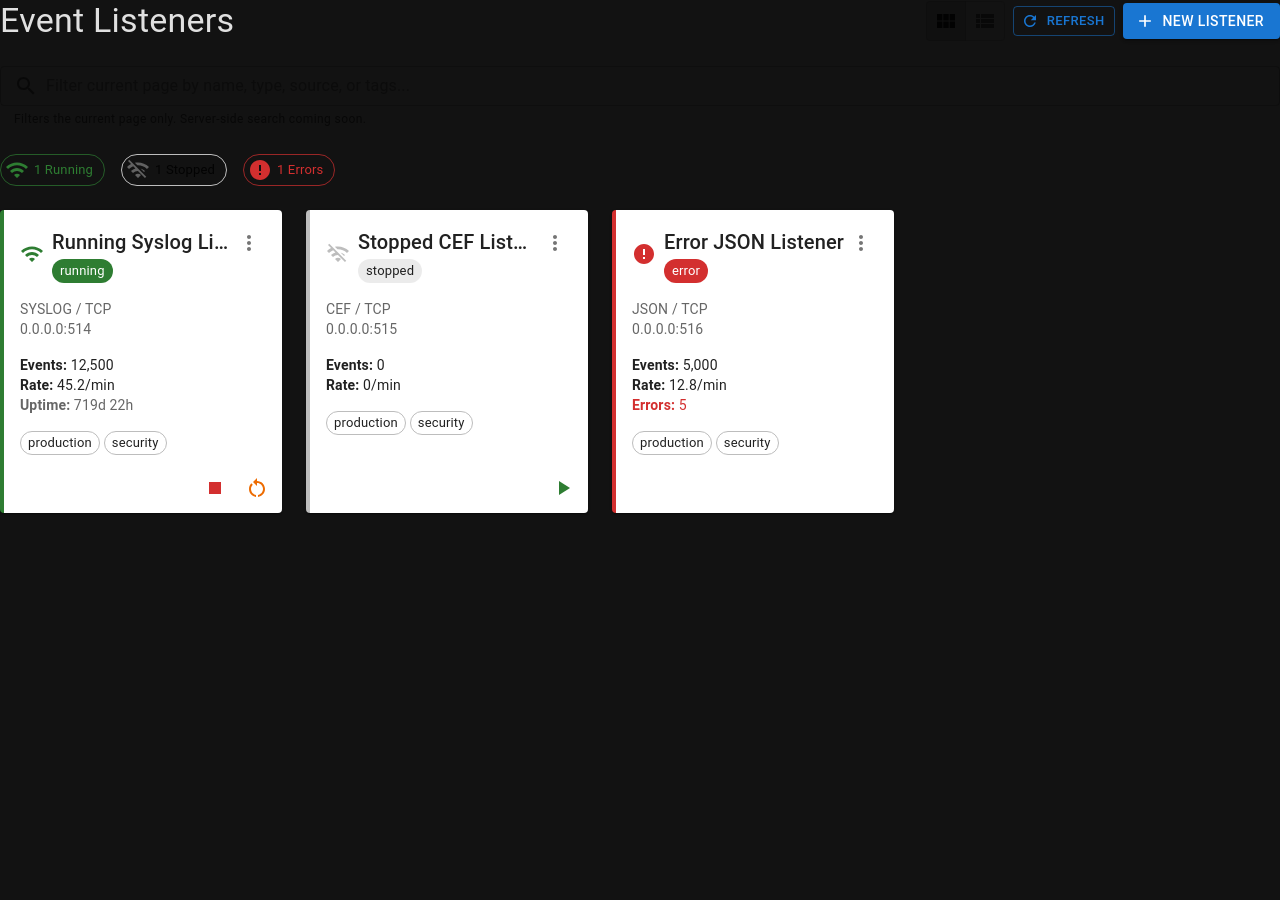
Test: Listeners Page › Delete Dialog › closes delete dialog when canceled
Expected: the text "Stopped CEF Listener" is shown, [358,226,538,258]
What coordinates should you click on to do the following:
click the button named "open actions menu"
I would click on:
 (555, 243)
Its box is [538,226,572,260].
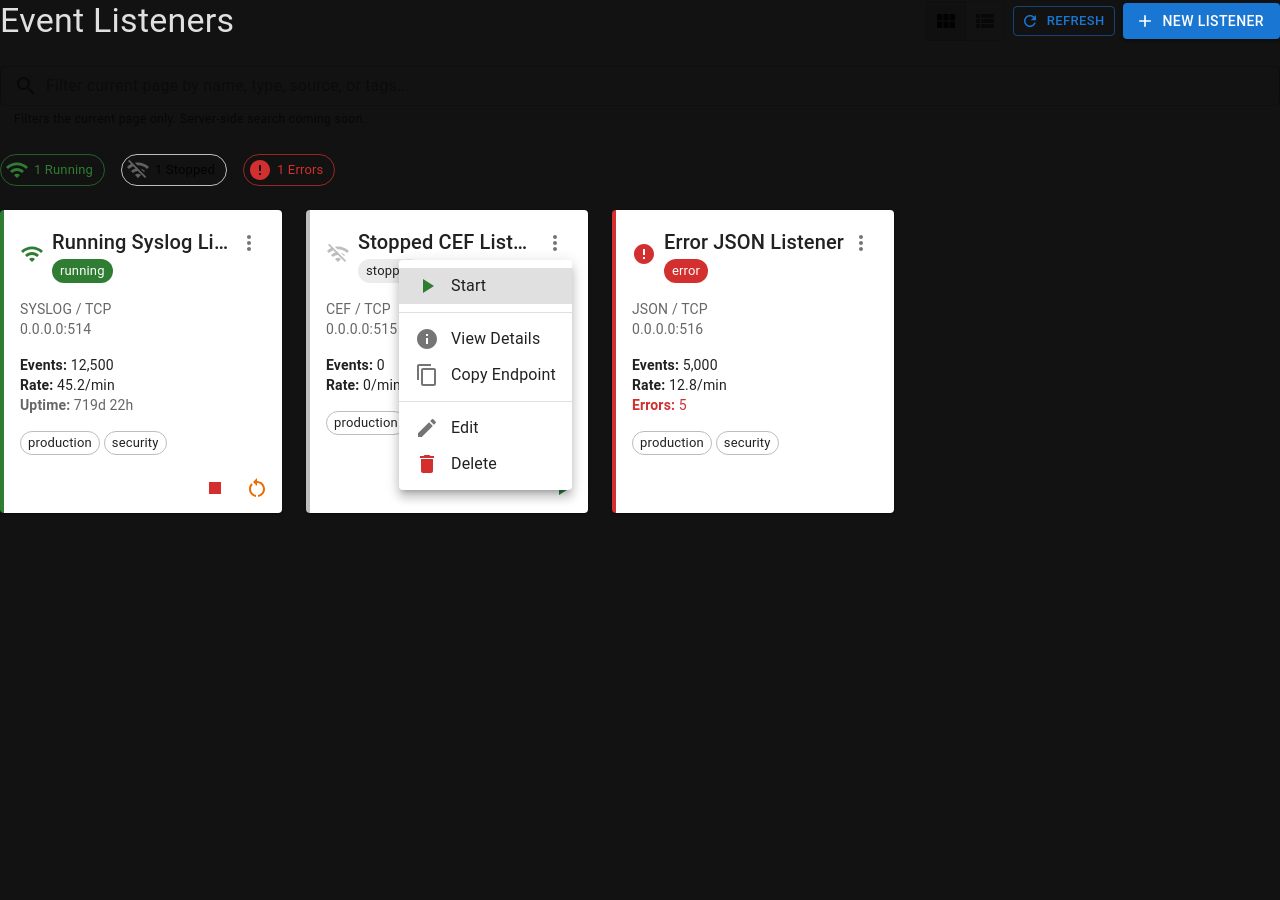
What coordinates should you click on to do the following:
click the menu item "Delete"
I would click on:
 (456, 464)
Its box is [415,452,497,476].
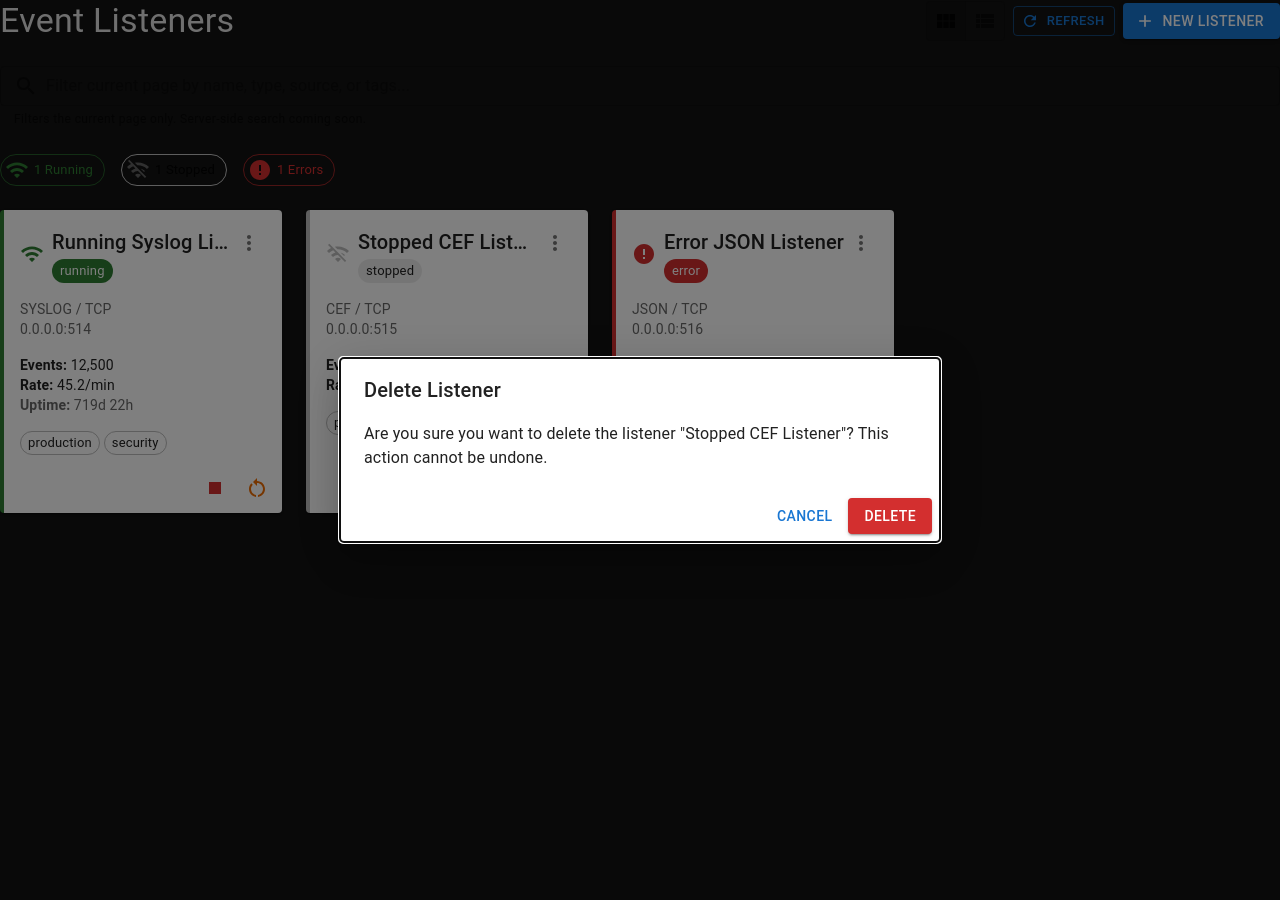
What coordinates should you click on to do the following:
click the button "Cancel"
I would click on:
 (805, 516)
Its box is [769,498,840,534].
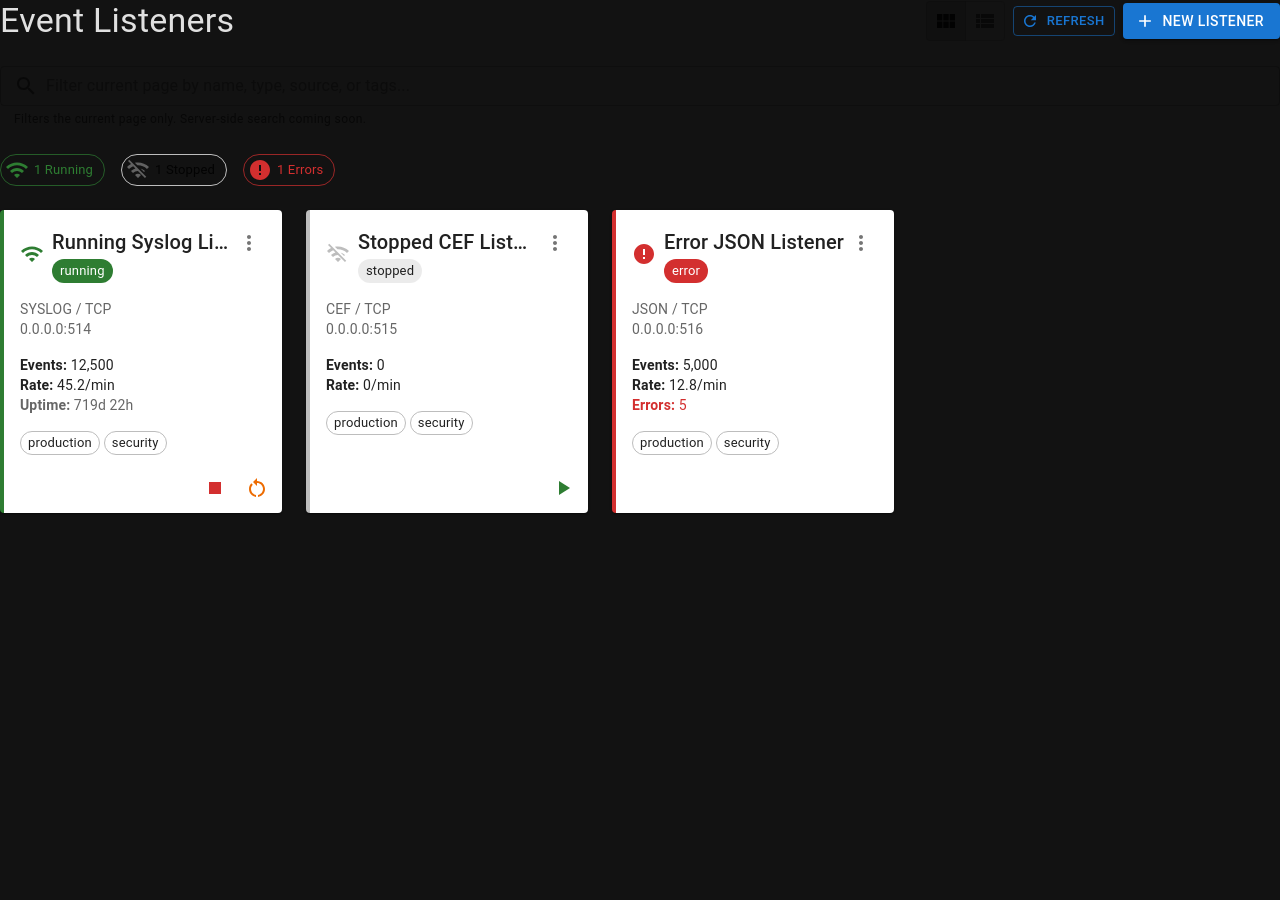
Now the dialog is gone
